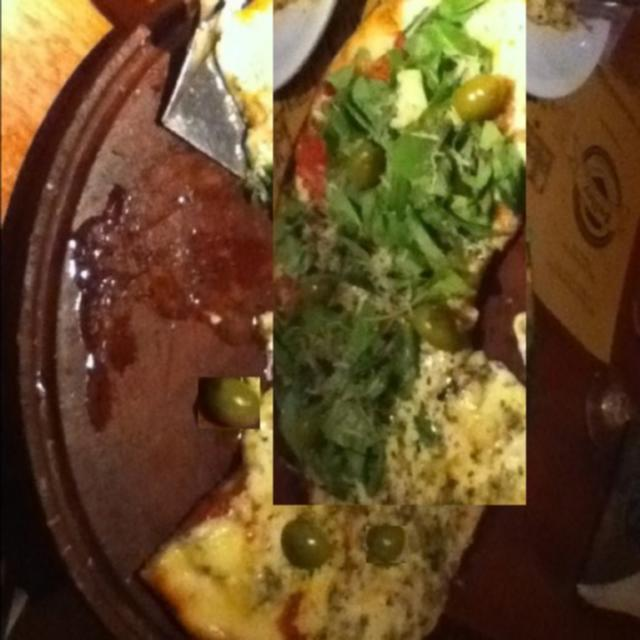basil: (270, 0, 524, 505)
olive: (197, 377, 259, 429), (283, 74, 351, 121), (331, 306, 390, 356), (279, 522, 336, 570), (412, 137, 450, 193), (365, 526, 407, 563), (460, 274, 502, 303)
pizza: (139, 0, 533, 640)
